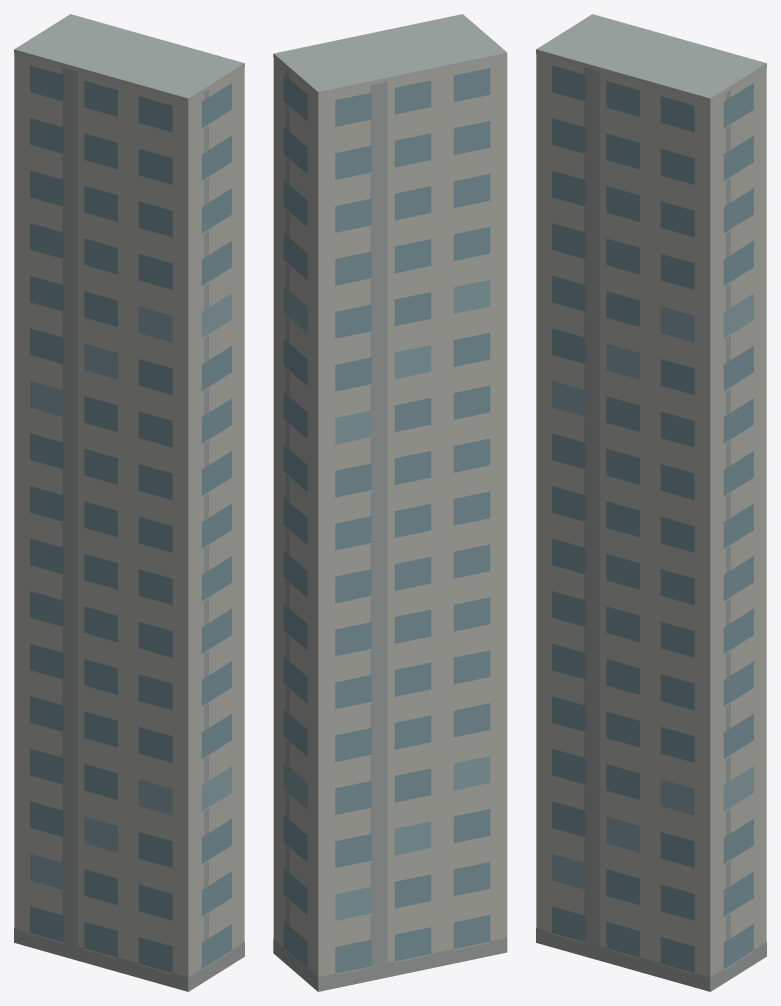
The model's file is survey-upis-32906569.glb.
The picture shows the model from 3 angles, left to right: view 1: azimuth 90°, elevation 25°; view 2: azimuth 150°, elevation 25°; view 3: azimuth 270°, elevation 25°; orthographic projection.
Parts seen in each view (by area): view 1: survey-upis-32906569.tmp; view 2: survey-upis-32906569.tmp; view 3: survey-upis-32906569.tmp.
Boxes of the visible parts, x1,y1,x2,y2 form: survey-upis-32906569.tmp: (14,14,244,991); survey-upis-32906569.tmp: (273,14,507,991); survey-upis-32906569.tmp: (536,14,766,991).
Size of the model in its own units: 10.53 by 51.85 by 12.14.
